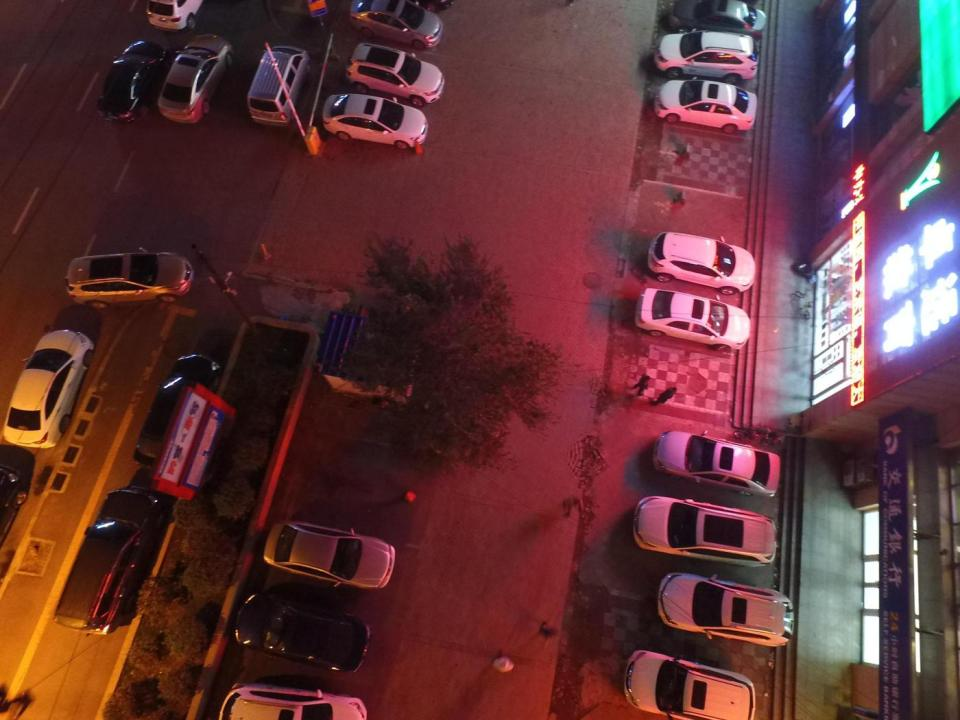car: (235, 590, 371, 672), (2, 330, 94, 448), (657, 570, 795, 646), (135, 354, 220, 466), (264, 519, 396, 590), (625, 649, 755, 720), (651, 430, 781, 498), (64, 248, 193, 312), (634, 288, 750, 352), (157, 34, 235, 126), (646, 230, 755, 295), (346, 42, 445, 106), (97, 41, 169, 124), (322, 94, 428, 150), (655, 27, 758, 84), (216, 681, 366, 720), (654, 77, 756, 133), (349, 1, 442, 50), (671, 1, 768, 38), (147, 0, 204, 32)
van: (52, 486, 163, 634), (634, 495, 776, 567), (248, 44, 309, 127)
